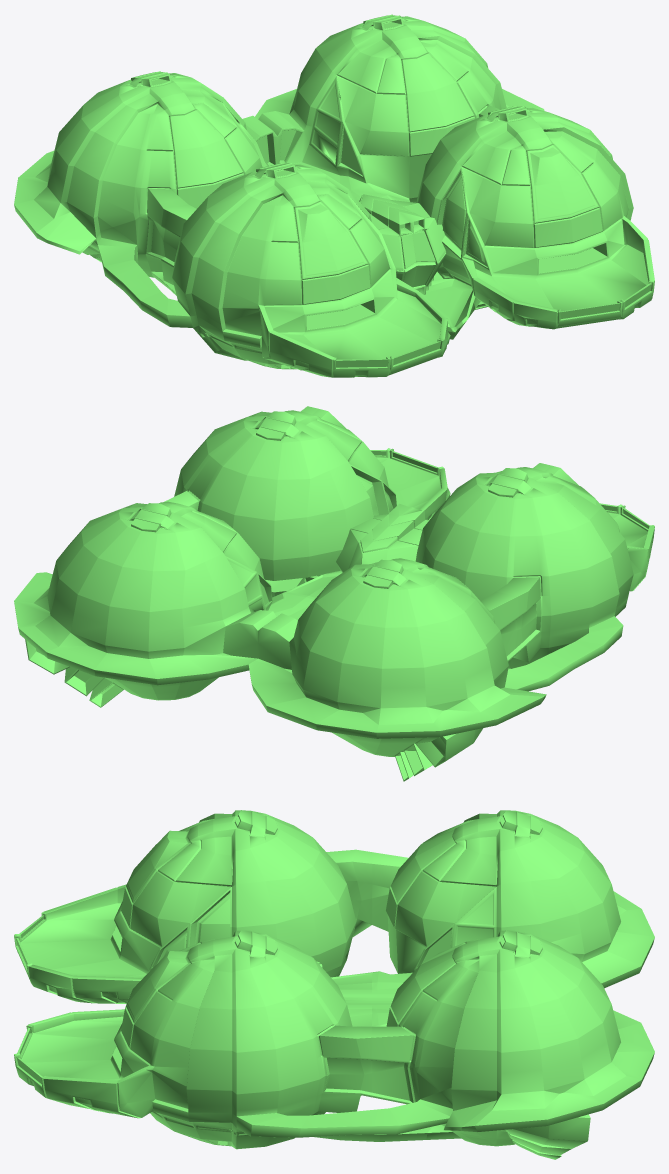
File: _othership.fbx
3 views of the same model, one above another, from view 1: azimuth 30°, elevation 25°; view 2: azimuth 150°, elevation 25°; view 3: azimuth 270°, elevation 25° (orthographic). The views are drawn at different scales.
Visible parts, largest first — view 1: Sphere005; view 2: Sphere005; view 3: Sphere005.
Boxes of the visible parts, <box> form: Sphere005: <box>14,14,654,377</box>; Sphere005: <box>14,406,654,781</box>; Sphere005: <box>14,810,654,1159</box>.
Size of the model in its own units: 1003 by 369 by 1035.
